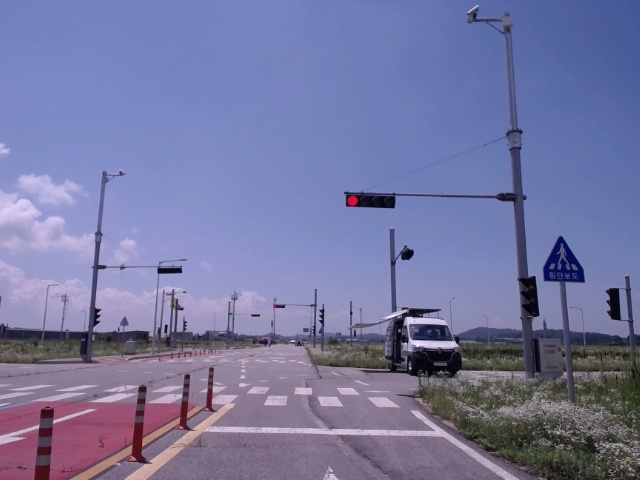red_4: (345, 195, 395, 208)
